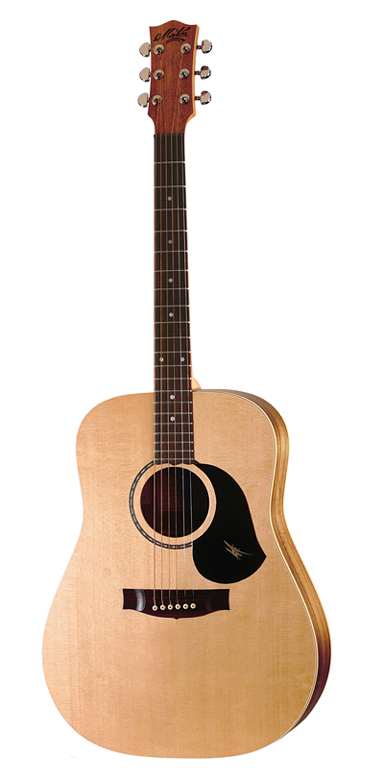guitar: (41, 19, 332, 760)
